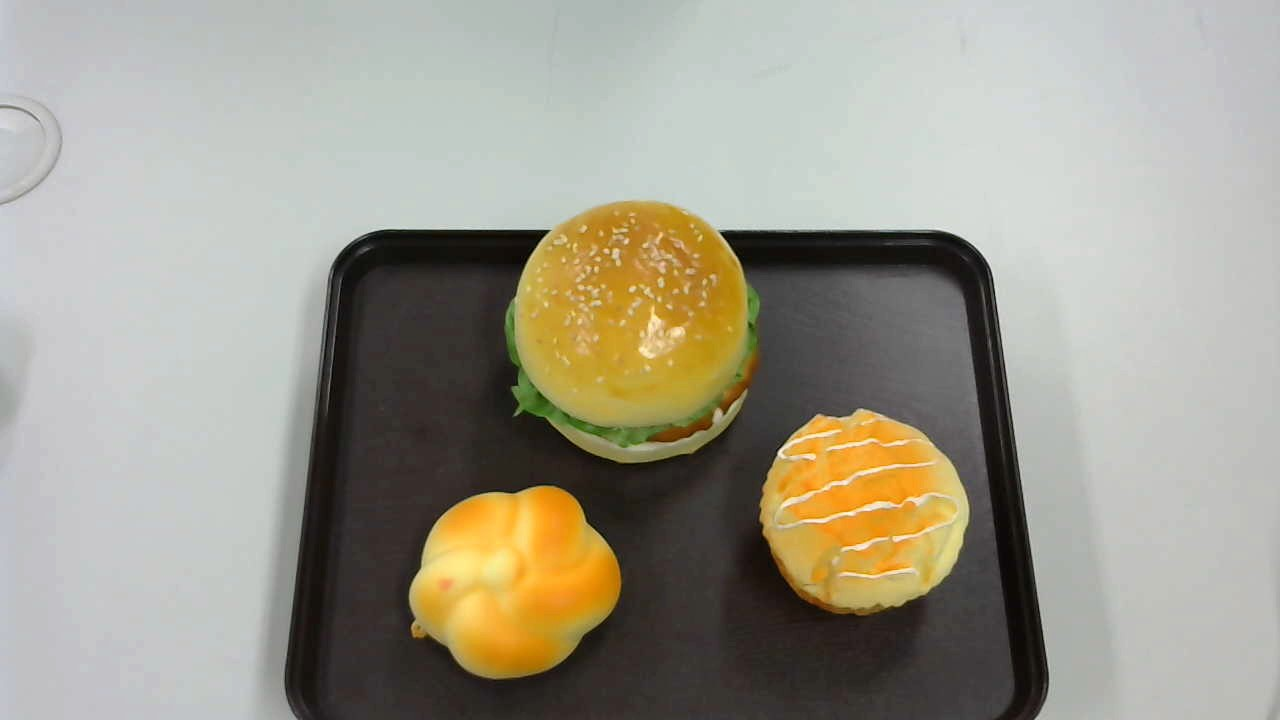cupcake: (761, 405, 970, 616)
hamburger: (503, 197, 759, 463)
twist bread: (407, 486, 621, 681)
